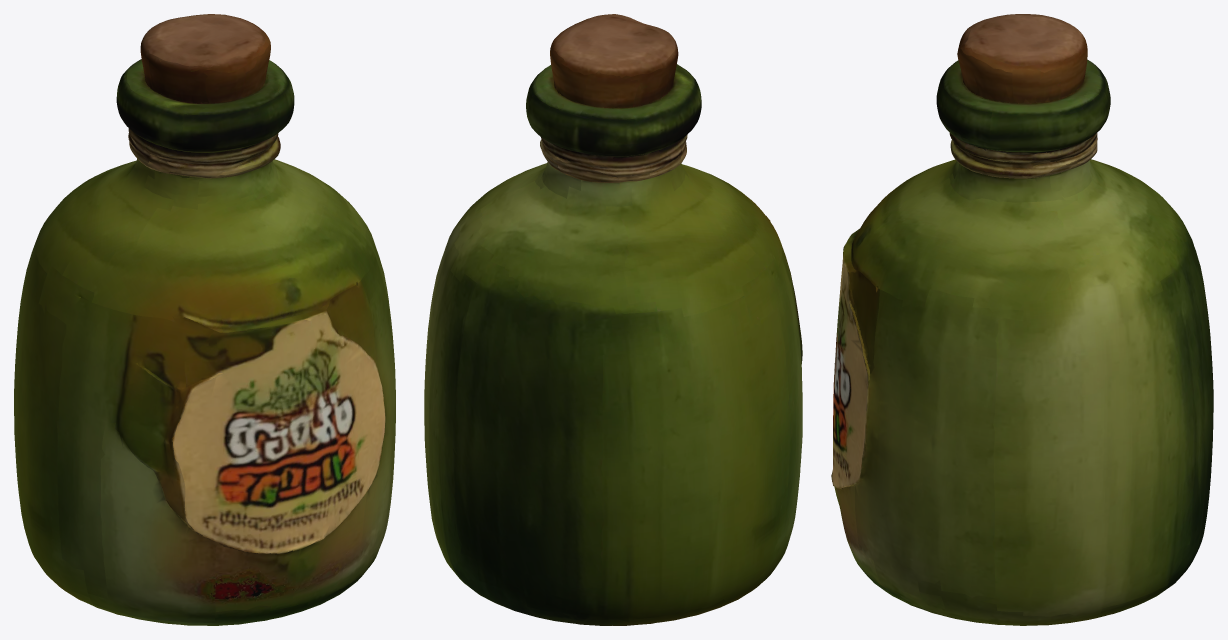
Rendered from agbo_bottle.glb.
The picture shows the model from 3 angles, left to right: view 1: azimuth 30°, elevation 25°; view 2: azimuth 150°, elevation 25°; view 3: azimuth 270°, elevation 25°; orthographic projection.
Visible parts, largest first — view 1: geometry_0; view 2: geometry_0; view 3: geometry_0.
Boxes of the visible parts, x1,y1,x2,y2 form: geometry_0: [14, 14, 395, 625]; geometry_0: [424, 14, 802, 625]; geometry_0: [831, 14, 1213, 625].
Bounding box in the file's own units: 0.0906 × 0.14 × 0.0912.
1 material, 1 textured.
